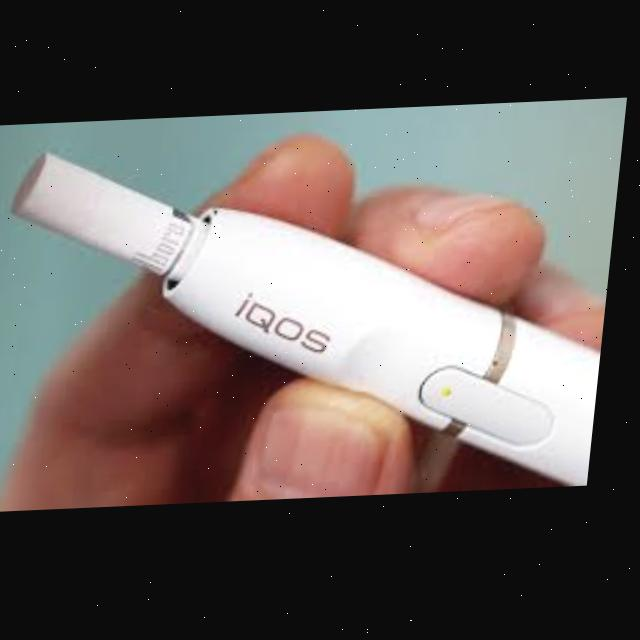vape: (0, 131, 627, 514)
